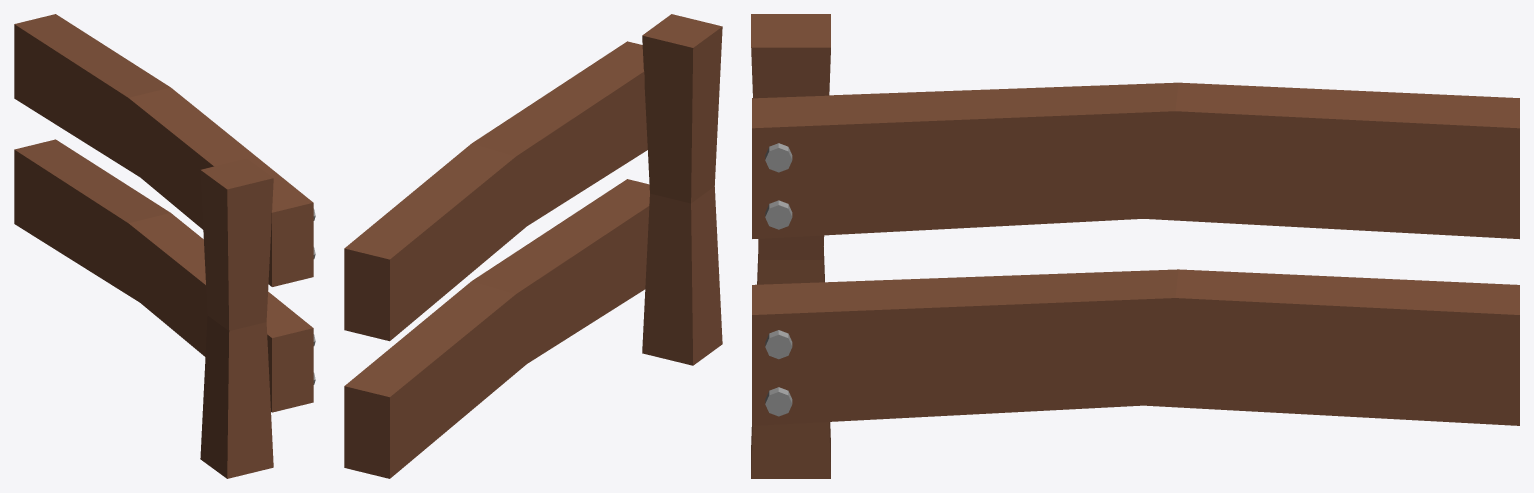
File: Fence2.glb
The picture shows the model from 3 angles, left to right: view 1: azimuth 30°, elevation 25°; view 2: azimuth 150°, elevation 25°; view 3: azimuth 270°, elevation 25°; orthographic projection. The views are drawn at different scales.
Parts seen in each view (by area): view 1: Fence 2; view 2: Fence 2; view 3: Fence 2.
Part boxes in pixels (box(x1,y1,x2,y2)): Fence 2: box(14, 14, 315, 478); Fence 2: box(344, 14, 722, 478); Fence 2: box(751, 14, 1519, 478).
Size of the model in its own units: 3.71 by 11.02 by 17.8.
